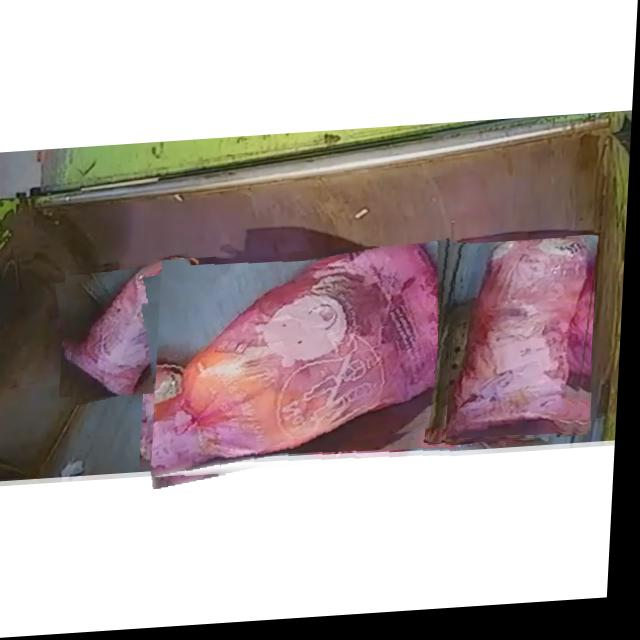other_trashbag: (156, 250, 459, 481), (451, 247, 589, 448), (73, 261, 193, 398)
